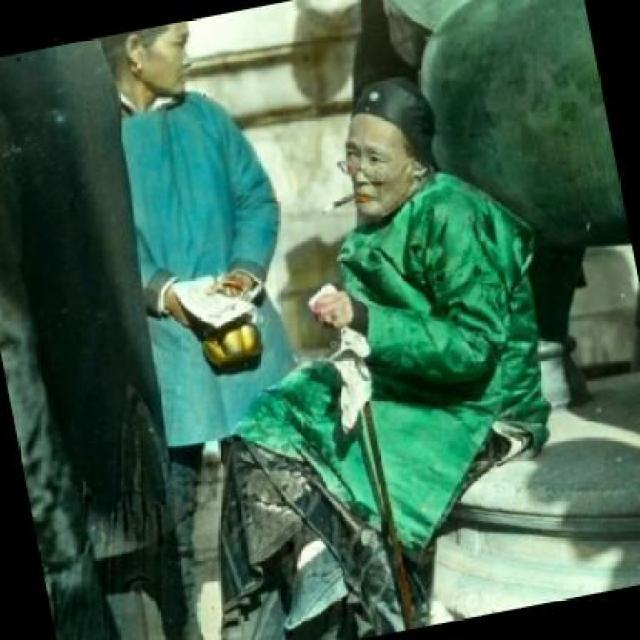cigarette: (316, 199, 338, 216)
